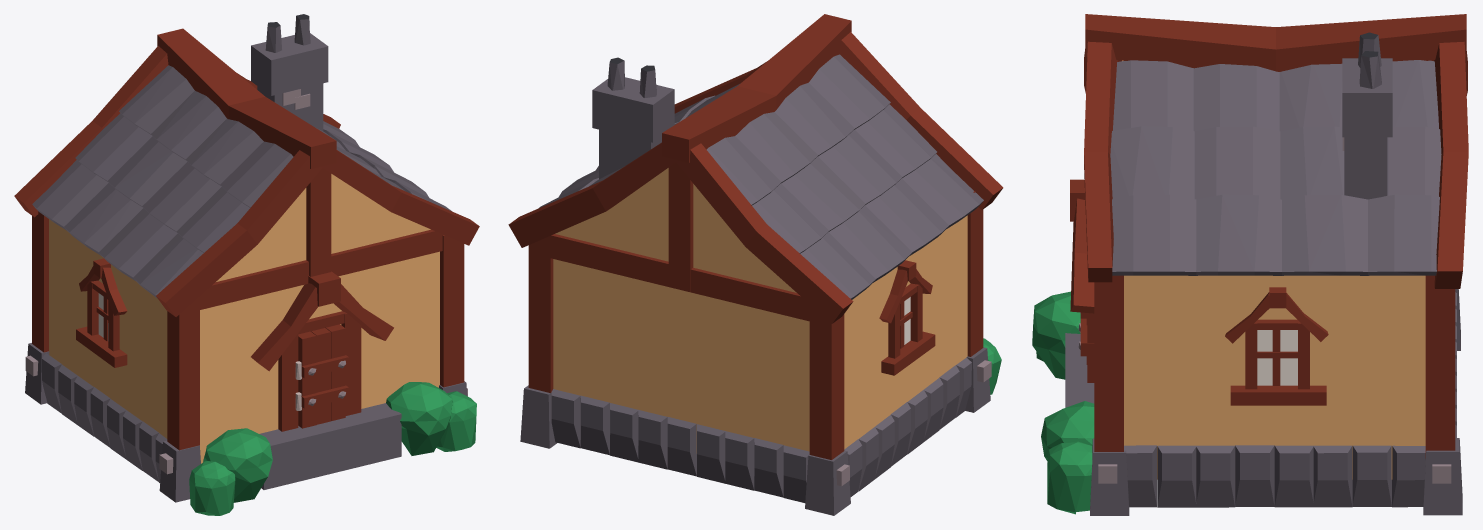
File: Poor_house.fbx
The picture shows the model from 3 angles, left to right: view 1: azimuth 30°, elevation 25°; view 2: azimuth 150°, elevation 25°; view 3: azimuth 270°, elevation 25°; orthographic projection. The views are drawn at different scales.
Parts seen in each view (by area): view 1: Poor_house; view 2: Poor_house; view 3: Poor_house.
Boxes of the visible parts, x1,y1,x2,y2 form: Poor_house: (14, 14, 479, 515); Poor_house: (508, 14, 1003, 515); Poor_house: (1032, 14, 1468, 515).
Size of the model in its own units: 221 by 229 by 245.
